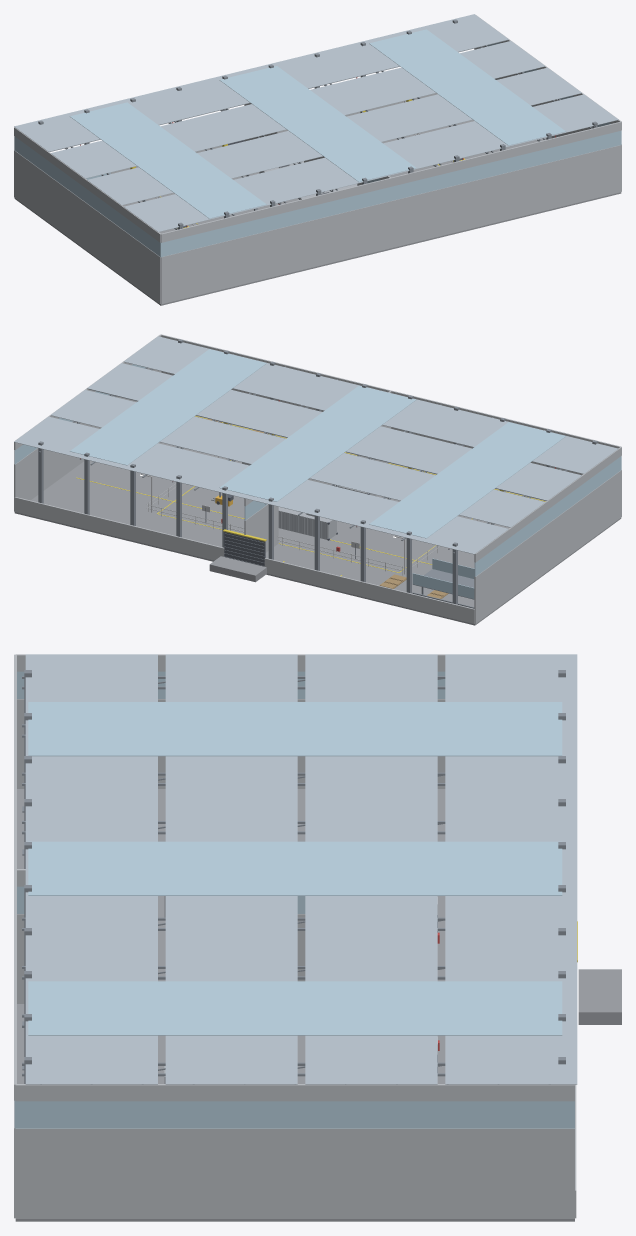
File: warehouse-hall-v4.glb
3 renders of one model, top to bottom at view 1: azimuth 30°, elevation 25°; view 2: azimuth 150°, elevation 25°; view 3: azimuth 270°, elevation 25°, orthographic. The views are drawn at different scales.
Parts seen in each view (by area): view 1: GEO-wh_roof, GEO-wh_wall, GEO-wh_glass, GEO-wh_concrete, GEO-wh_steel, GEO-ess_pad; view 2: GEO-wh_roof, GEO-wh_glass, GEO-wh_wall, GEO-wh_concrete, GEO-ess_pad, GEO-wh_steel, GEO-ess_shell, GEO-wh_dark, GEO-ess_fence, GEO-wh_mark, GEO-ess_rib; view 3: GEO-wh_roof, GEO-wh_glass, GEO-wh_wall, GEO-wh_concrete, GEO-wh_steel, GEO-ess_pad.
Part boxes in pixels (box(x1,y1,x2,y2)): GEO-wh_roof: box(14, 14, 618, 232); GEO-wh_wall: box(14, 14, 621, 304); GEO-wh_glass: box(14, 29, 621, 257); GEO-wh_concrete: box(14, 94, 621, 305); GEO-wh_steel: box(38, 19, 597, 229); GEO-ess_pad: box(148, 134, 450, 226); GEO-wh_roof: box(14, 336, 618, 554); GEO-wh_glass: box(14, 349, 621, 598); GEO-wh_wall: box(14, 334, 621, 623); GEO-wh_concrete: box(14, 415, 621, 625); GEO-ess_pad: box(142, 457, 483, 577); GEO-wh_steel: box(38, 339, 597, 608); GEO-ess_shell: box(242, 462, 376, 539); GEO-wh_dark: box(216, 494, 265, 566); GEO-ess_fence: box(141, 424, 477, 575); GEO-wh_mark: box(76, 416, 545, 576); GEO-ess_rib: box(280, 486, 366, 539); GEO-wh_roof: box(25, 654, 577, 1084); GEO-wh_glass: box(14, 671, 574, 1128); GEO-wh_wall: box(14, 654, 576, 1218); GEO-wh_concrete: box(15, 789, 621, 1221); GEO-wh_steel: box(22, 670, 565, 1084); GEO-ess_pad: box(158, 896, 445, 1083).
Size of the model in its own units: 80.24 by 12.3 by 47.82.
